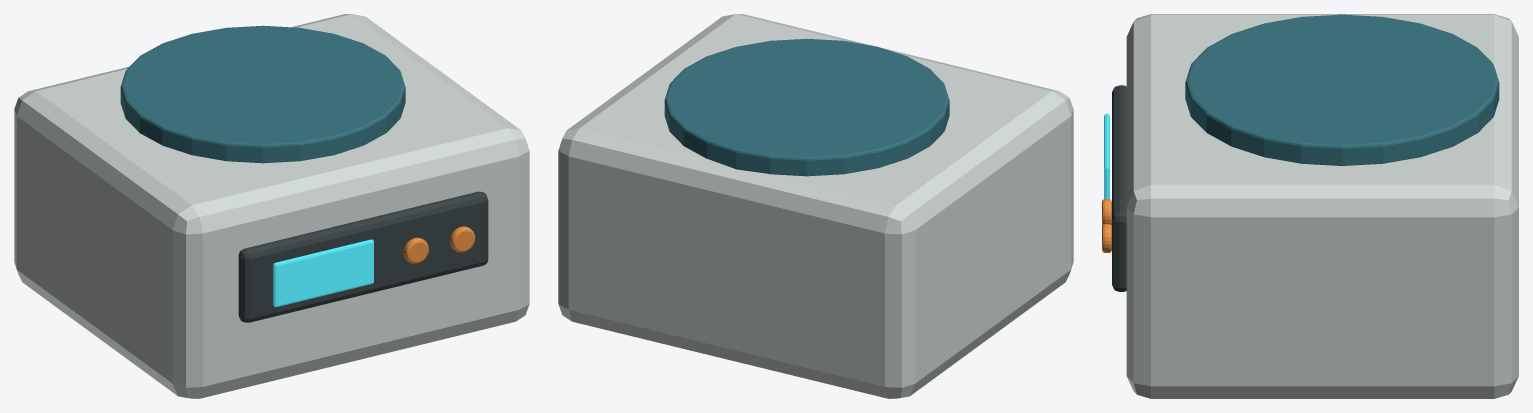
File: Centrifuge.fbx
3 renders of one model, left to right at view 1: azimuth 30°, elevation 25°; view 2: azimuth 150°, elevation 25°; view 3: azimuth 270°, elevation 25°, orthographic. The views are drawn at different scales.
Parts seen in each view (by area): view 1: Instrument, Lid, ControlPanel, Display, Button.001, Button; view 2: Instrument, Lid; view 3: Instrument, Lid, ControlPanel, Display.
Boxes of the visible parts, x1,y1,x2,y2 form: Instrument: (14,14,529,398); Lid: (120,25,405,163); ControlPanel: (238,191,488,322); Display: (273,239,373,307); Button.001: (450,226,475,252); Button: (403,237,428,263); Instrument: (558,14,1073,398); Lid: (664,38,949,176); Instrument: (1126,14,1518,398); Lid: (1185,14,1499,165); ControlPanel: (1112,85,1126,291); Display: (1104,113,1109,199).
Size of the model in its own units: 46 by 26.25 by 42.5.
